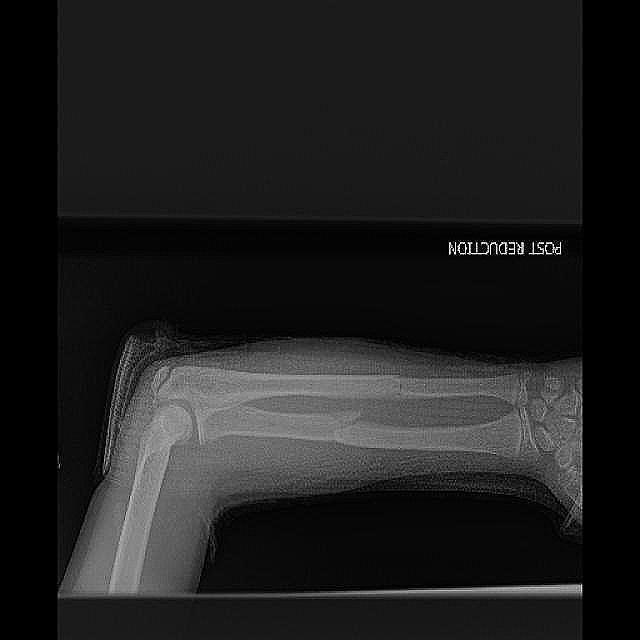bone: (319, 405, 367, 447), (372, 368, 424, 406)
